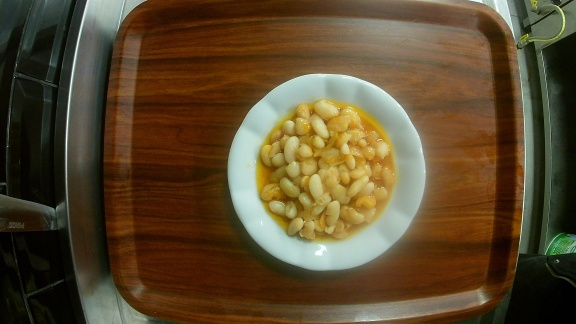kurufasulye: (226, 73, 428, 274)
